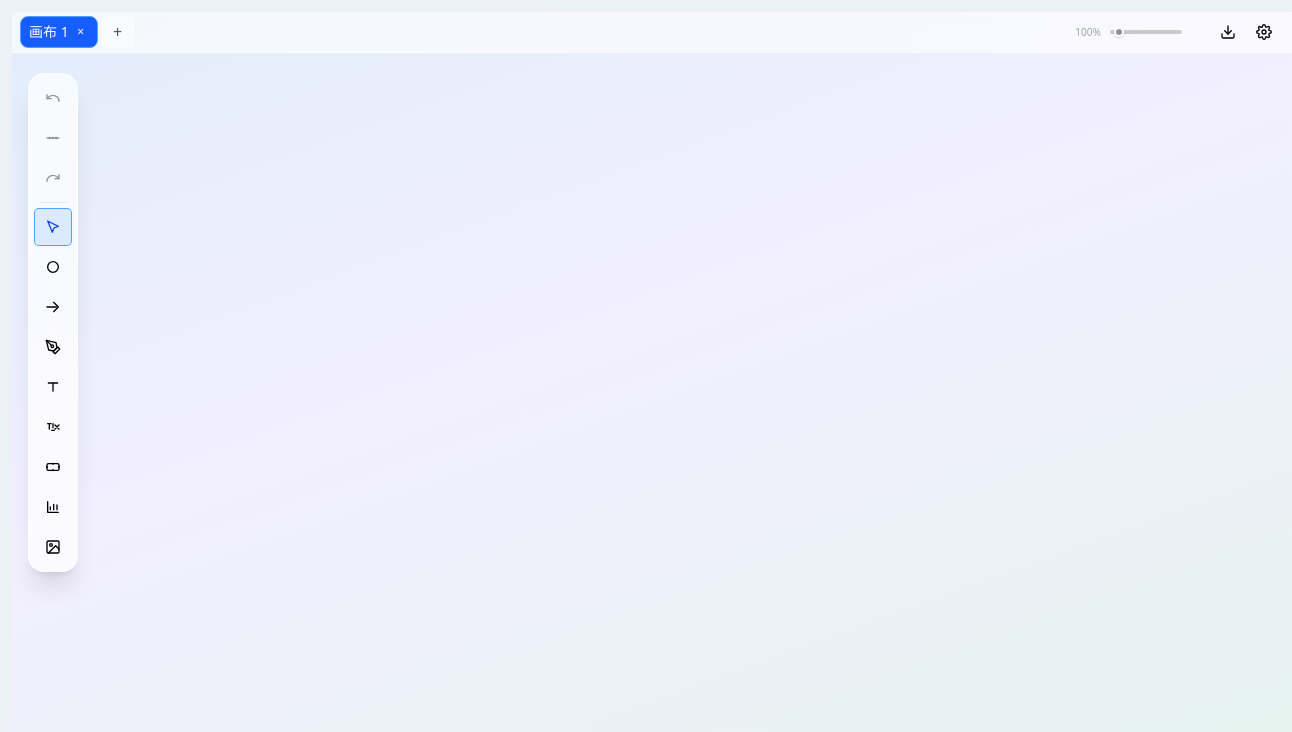
Test: Toolbar 画布管理 › 右键菜单点击外部关闭
Right-click the element with test id "project-tab": (59, 32) [20,16,98,48]
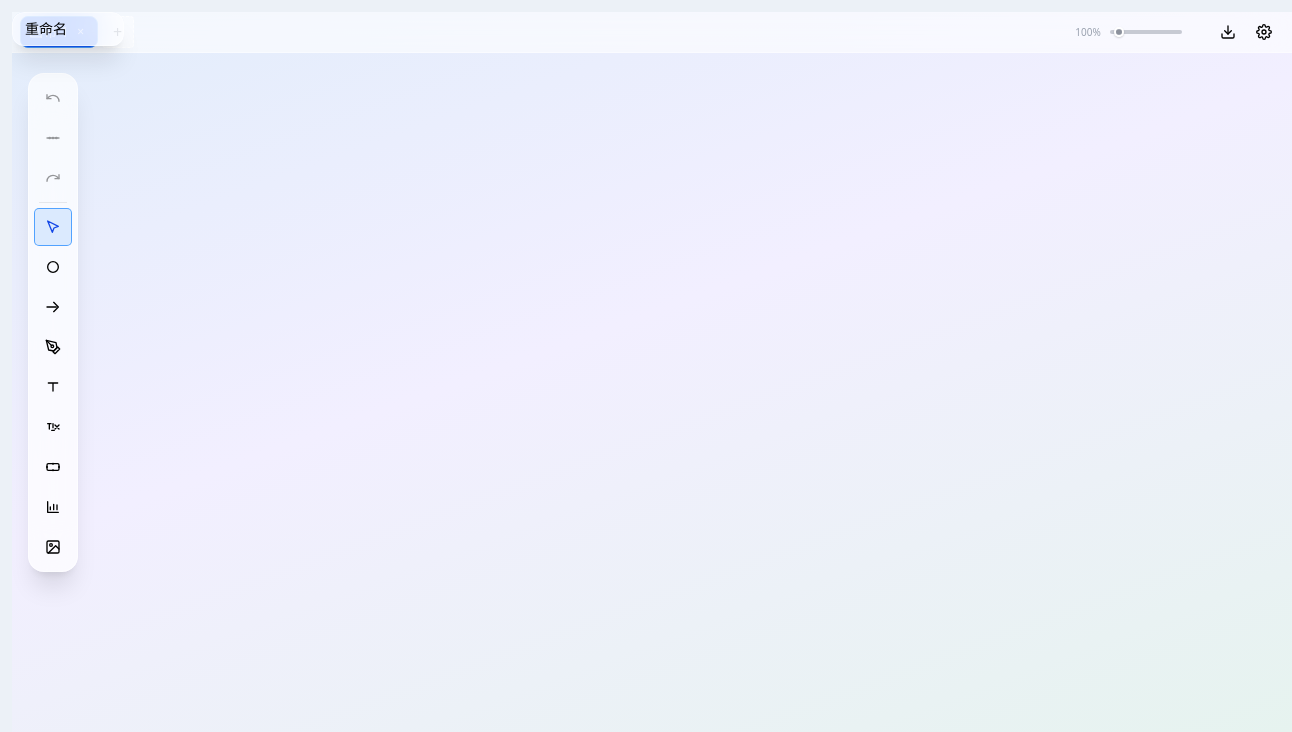
Expected: the button titled "重命名" is shown, [13,13,123,45]
Press the mouse on the element showing "画布 1 × + 100% 重命名": (652, 372) [12,12,1291,731]
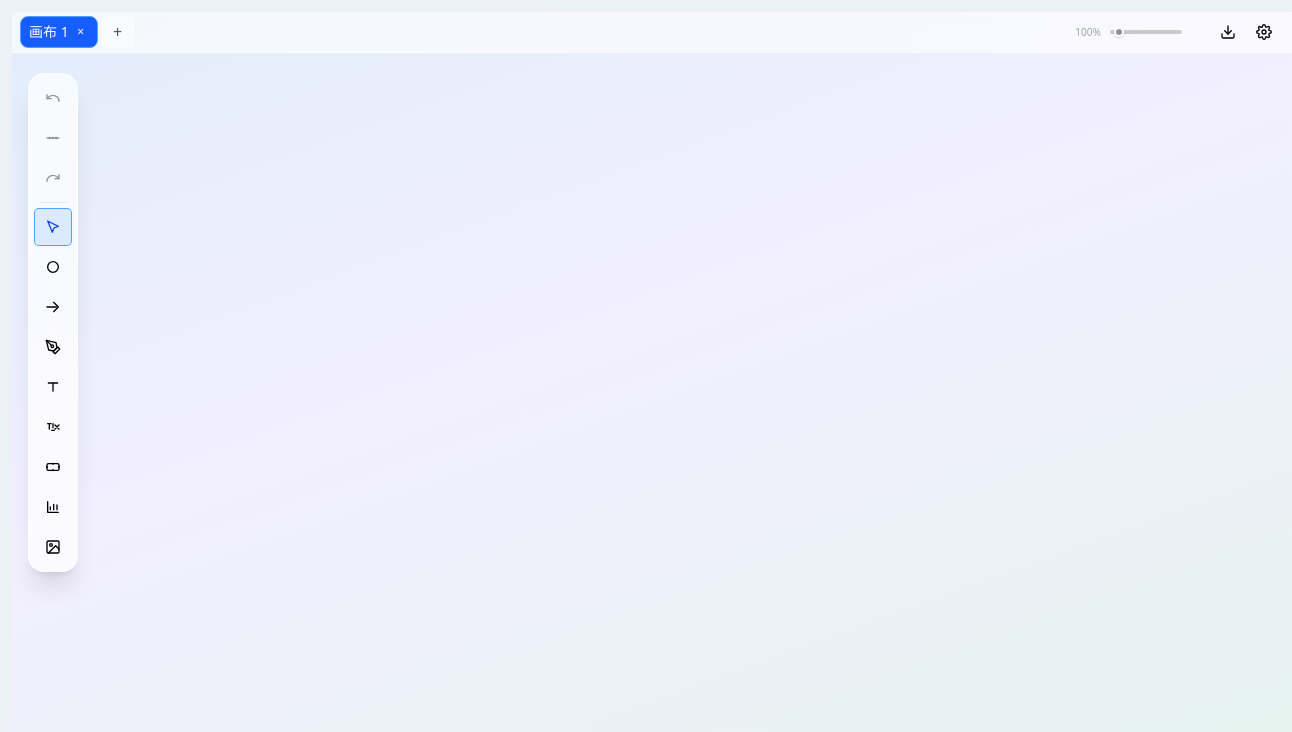
Expected: the button titled "重命名" is gone
